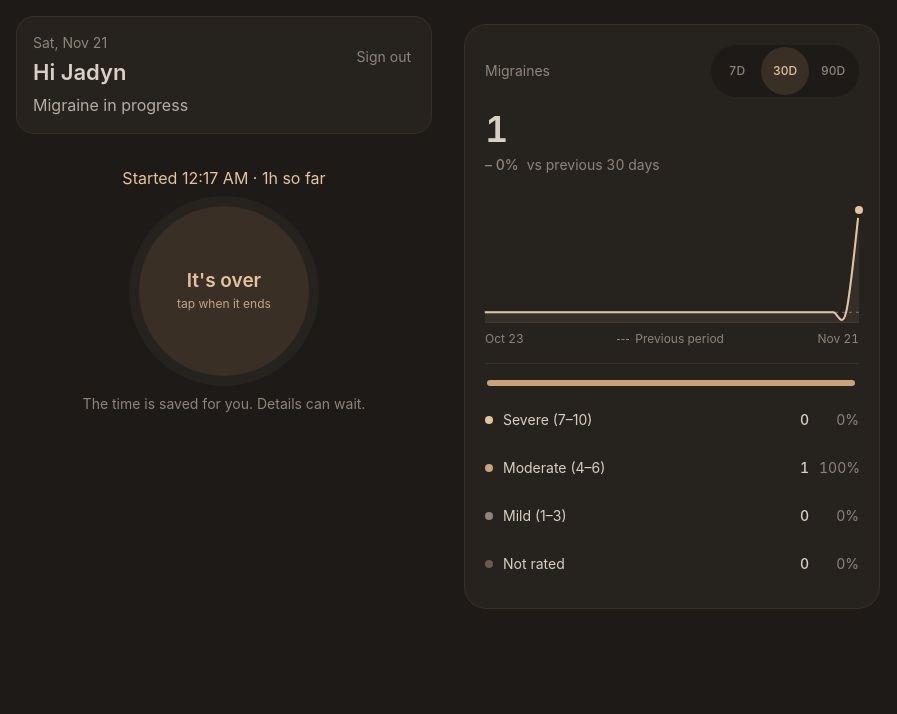
Test: ending a migraine that is already saved sends just the end time
Click the button "It's over tap when it ends" at (224,290), box [139,206,309,376]
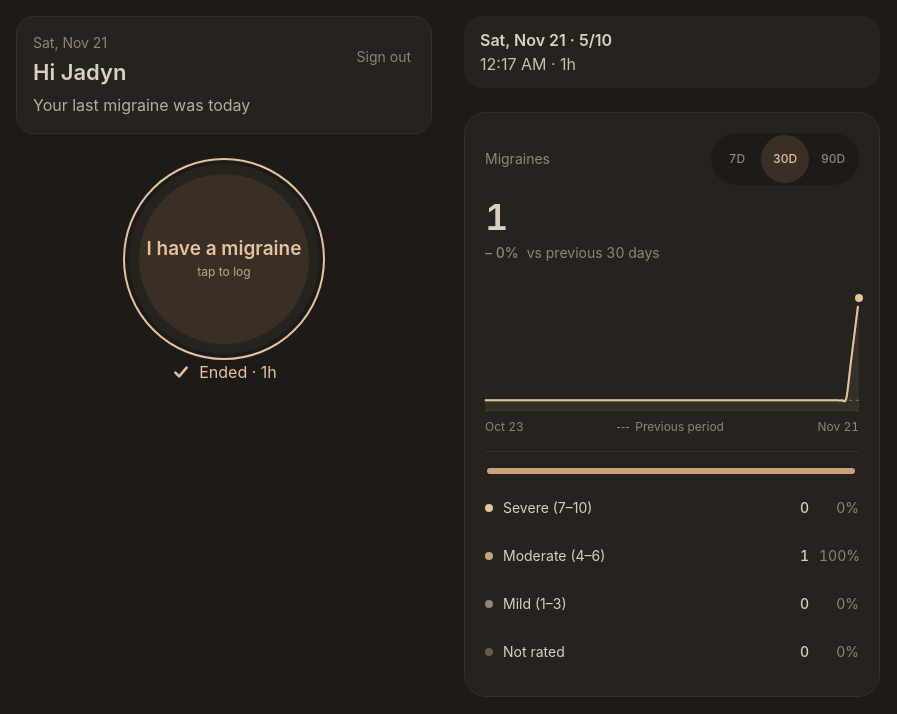
expect the button "I have a migraine tap to log" is shown: met, box [139,174,309,344]
